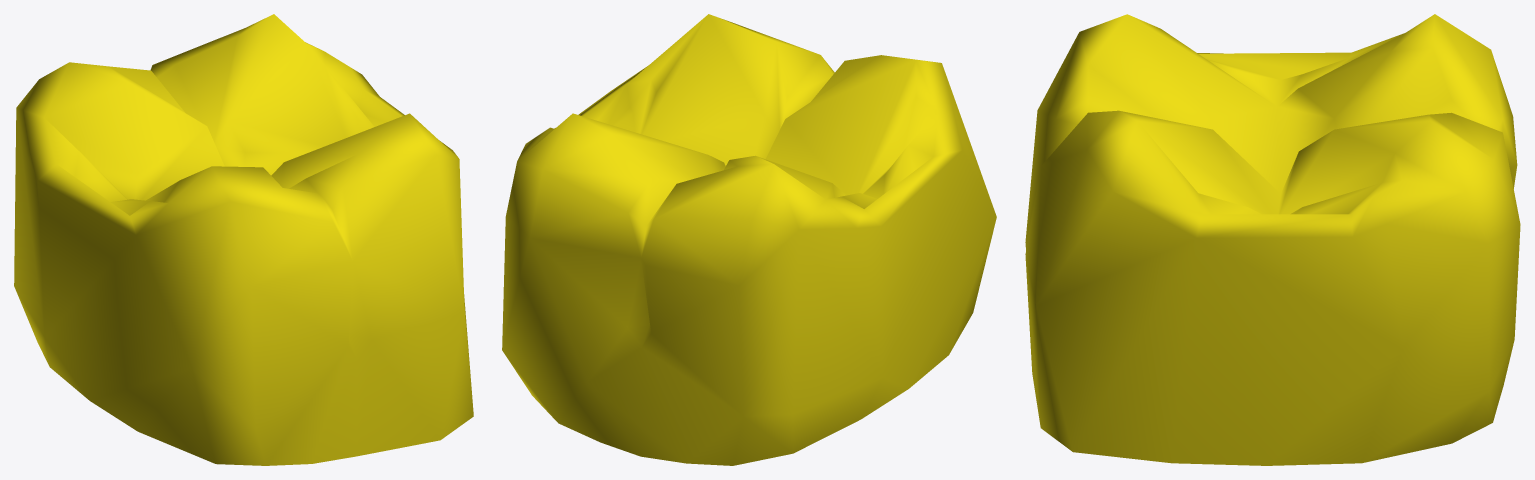
File: D37N_NUC.obj
3 views of the same model, side by side, from view 1: azimuth 30°, elevation 25°; view 2: azimuth 150°, elevation 25°; view 3: azimuth 270°, elevation 25° (orthographic). The views are drawn at different scales.
Visible parts, largest first — view 1: D37N_NUC; view 2: D37N_NUC; view 3: D37N_NUC.
Part boxes in pixels (x1,y1,x2,y2): D37N_NUC: (14,14,473,465); D37N_NUC: (502,14,996,465); D37N_NUC: (1025,14,1520,465).
Bounding box in the file's own units: 6.25 × 5.11 × 7.2.
